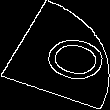O_NW: (12, 25, 98, 85)
